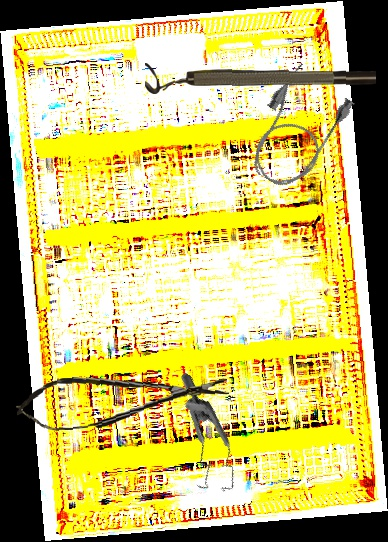Cannula: (234, 59, 359, 198)
Fixation Ring: (144, 62, 377, 99)
Micro Scissor: (14, 366, 231, 434)
Speculum: (133, 371, 271, 506)
